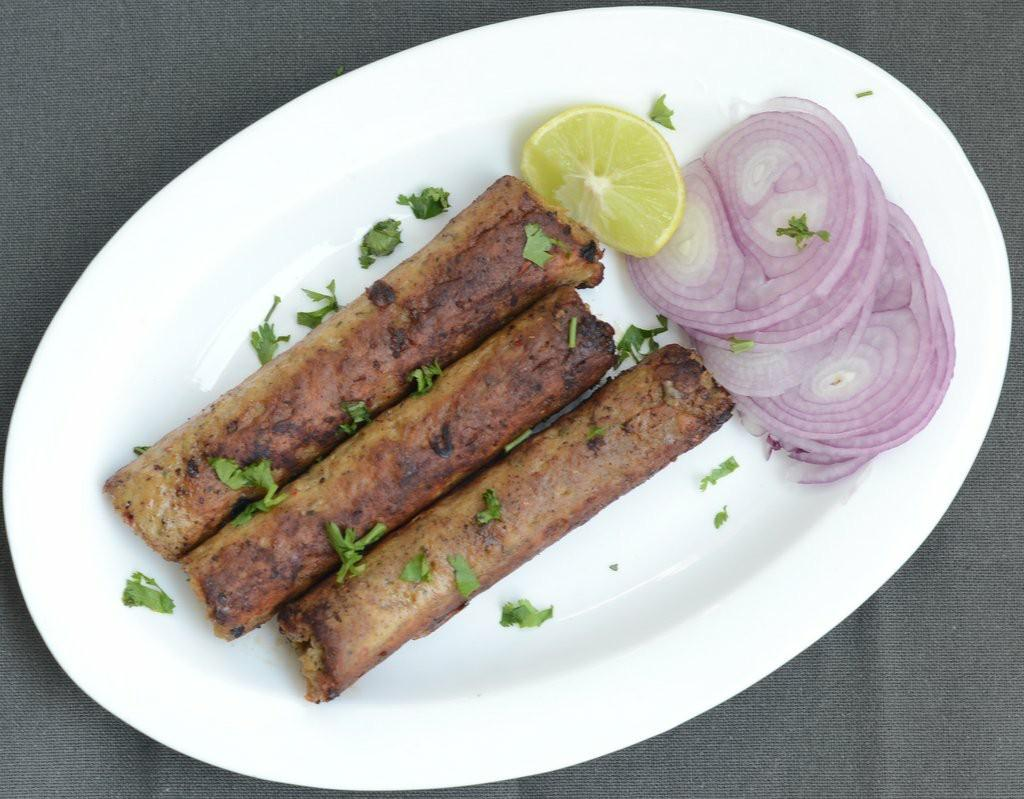Kebab: (103, 175, 603, 561), (279, 345, 736, 702), (181, 286, 614, 641)
